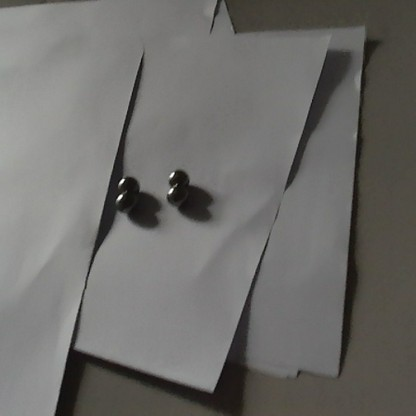ironball: (166, 185, 184, 206), (116, 176, 139, 192), (115, 191, 134, 210), (167, 169, 188, 186)
